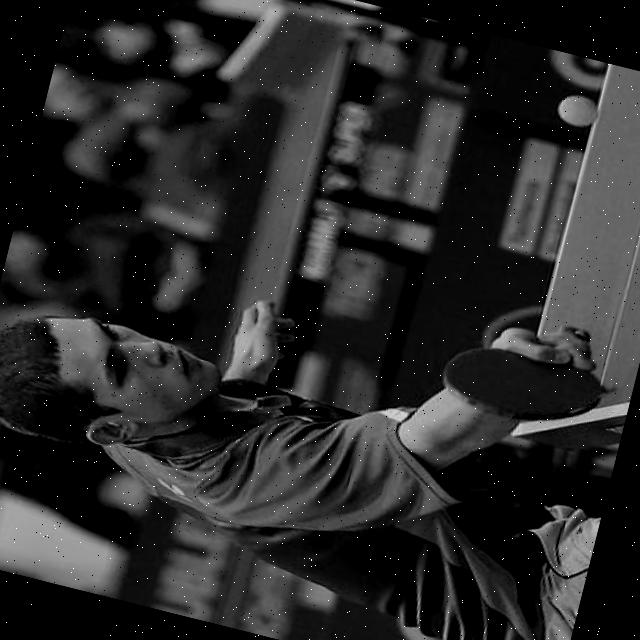ping-pong-ball: (554, 90, 602, 128)
